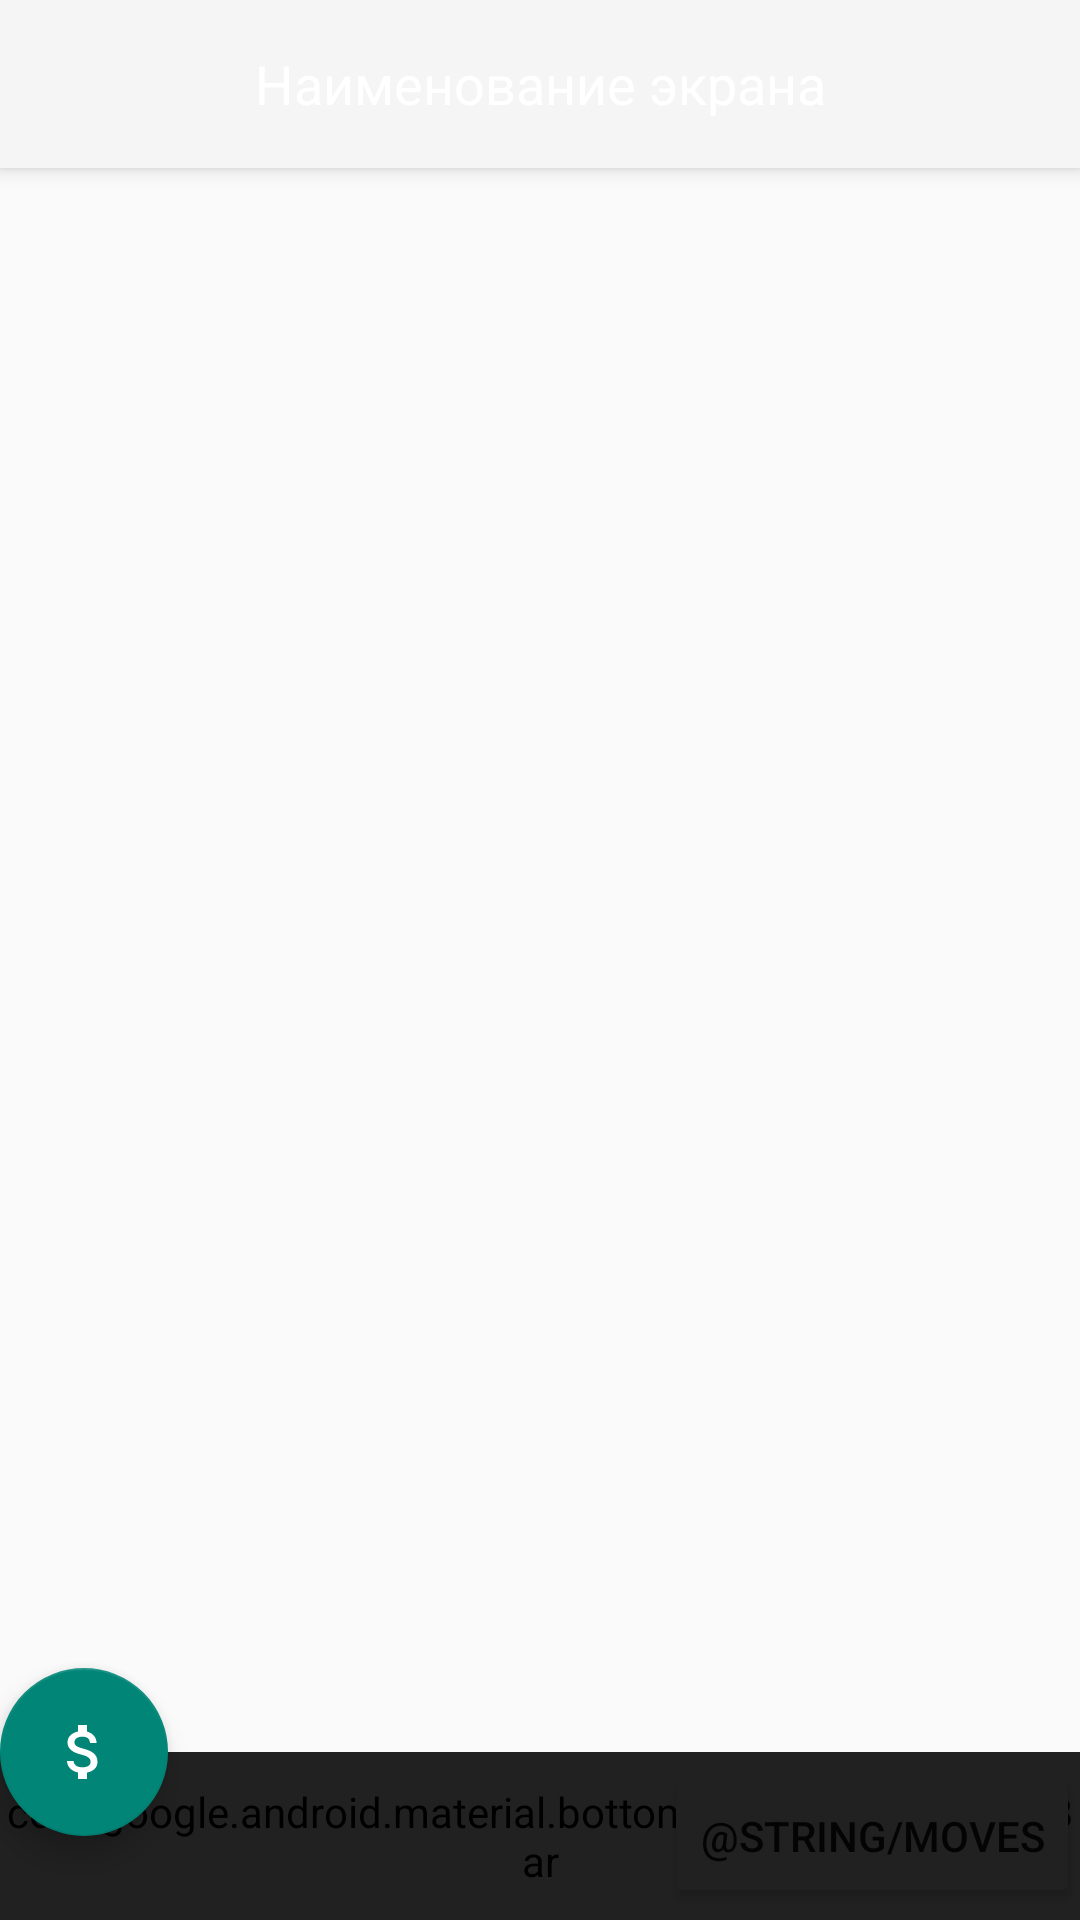

Icon click points for this 1080×1920 phone screenshot, format [x,y]:
attach money: [84,1752]
